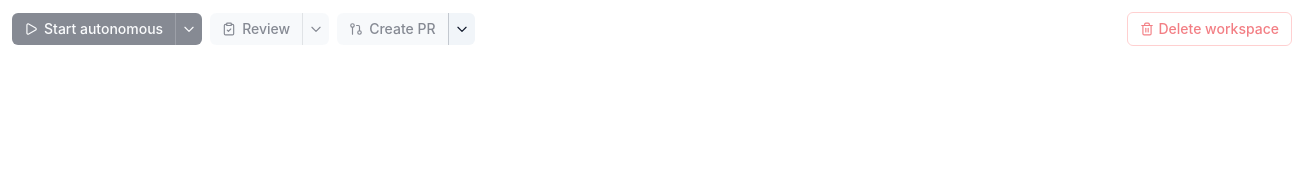
Test: OperationPanel Create PR › keeps the repositories without a running operation selectable while the workspace is busy
The width and height of the screenshot is (1304, 172).
Expected: the button "Create PR" is disabled, [337,13,448,45]
Click the 3rd button named "More options".
click(461, 29)  # box [448,13,475,45]
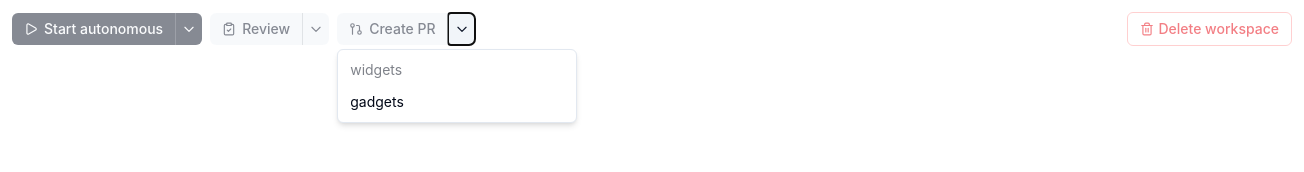
Now the menu item "widgets" is disabled, box [338,54,576,86]
Now the menu item "gadgets" is enabled, box [338,86,576,118]
